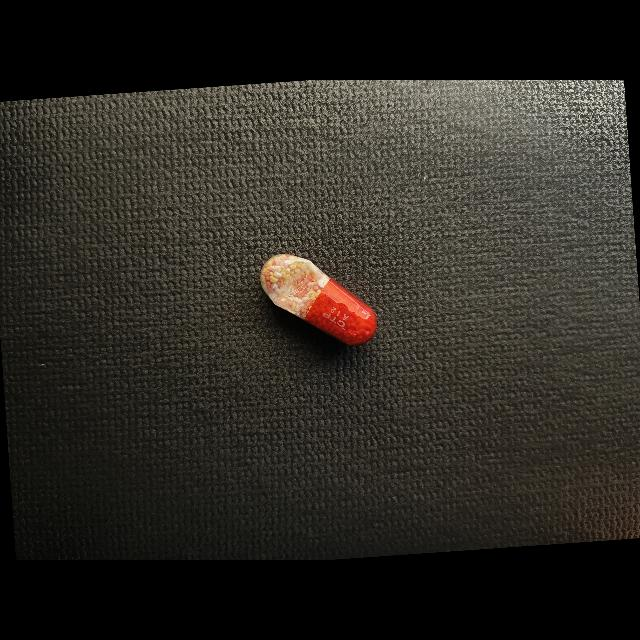Defective Capsule: (260, 254, 377, 346)
